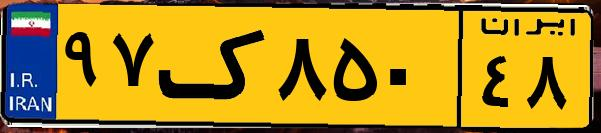0: (385, 28, 445, 110)
4: (475, 38, 525, 113)
5: (330, 28, 385, 110)
7: (110, 28, 158, 98)
8: (270, 28, 330, 110), (525, 38, 570, 115)
9: (57, 26, 110, 100)
ک: (158, 12, 270, 120)
